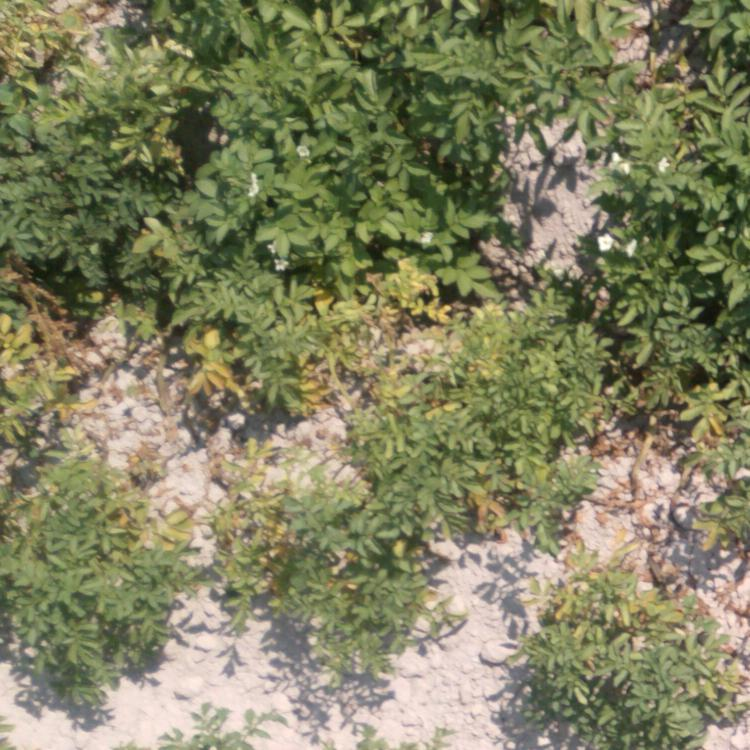healthy: (623, 15, 746, 254), (212, 4, 396, 137), (408, 7, 603, 131), (10, 511, 133, 688), (5, 98, 112, 271), (247, 155, 490, 230), (621, 272, 750, 363), (335, 537, 408, 649), (529, 299, 597, 371)
stressed: (520, 571, 750, 744), (132, 247, 322, 415), (330, 390, 561, 513), (178, 427, 305, 608), (344, 246, 498, 379), (627, 378, 747, 541), (4, 5, 190, 88), (19, 428, 176, 508), (19, 282, 107, 413), (128, 91, 195, 238)
